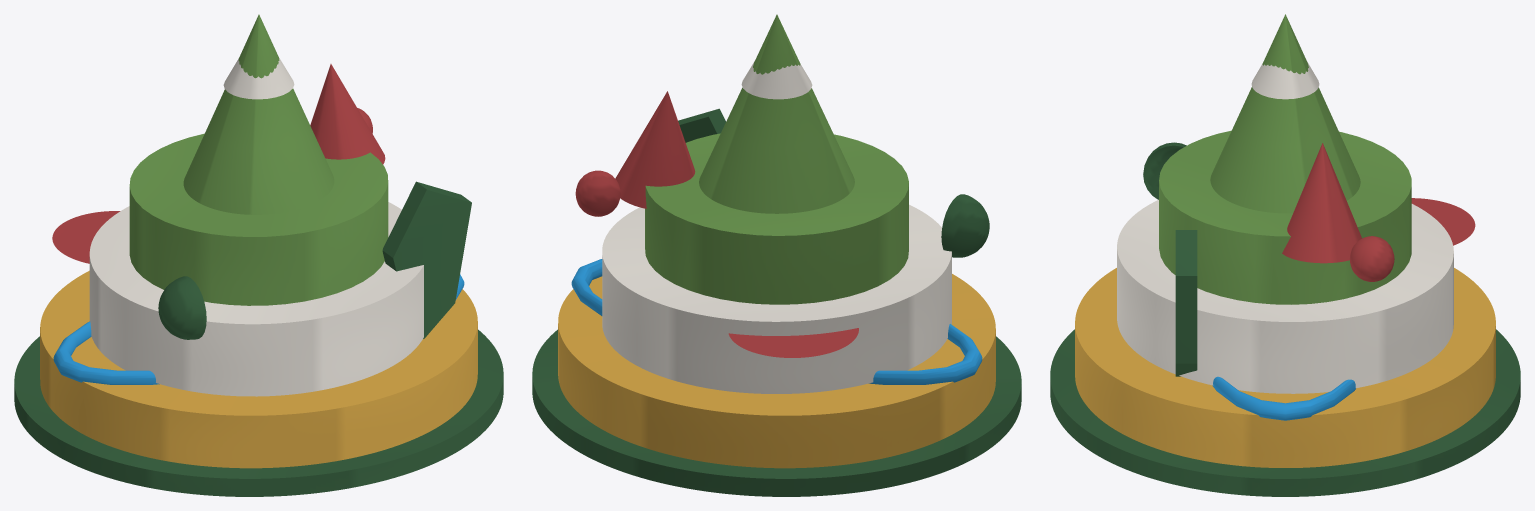
The model's file is 0622_地貌图鉴_纪念碑谷.glb.
3 renders of one model, left to right at view 1: azimuth 30°, elevation 25°; view 2: azimuth 150°, elevation 25°; view 3: azimuth 270°, elevation 25°, orthographic.
Parts seen in each view (by area): view 1: card_0622; view 2: card_0622; view 3: card_0622.
Boxes of the visible parts, x1,y1,x2,y2 form: card_0622: (14, 14, 503, 496); card_0622: (532, 14, 1021, 496); card_0622: (1050, 14, 1520, 496).
Size of the model in its own units: 1.17 by 1 by 1.12.
